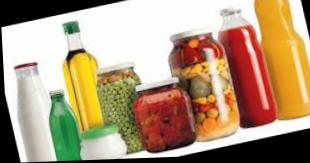glass: (169, 32, 239, 139), (218, 9, 275, 126), (255, 0, 309, 118), (62, 21, 103, 131), (11, 62, 55, 160), (134, 79, 194, 150), (49, 92, 79, 159)
